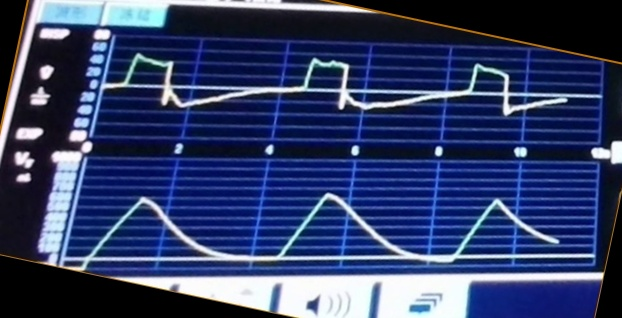Premature_cycling Flow: (112, 49, 564, 138)
Premature_cycling Volume: (79, 189, 563, 269)
